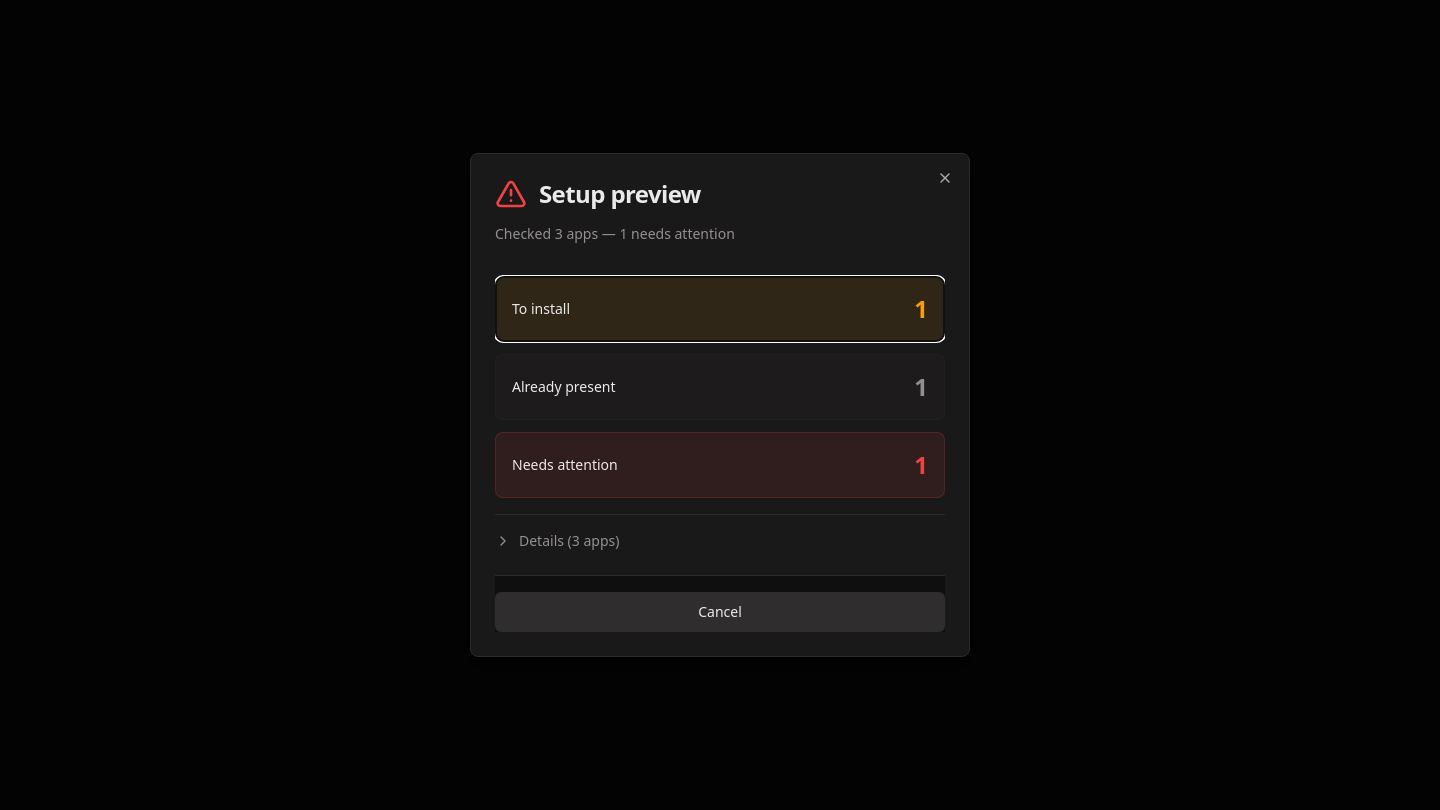
Test case: ApplyResultModal › Details collapse behavior › expands details when toggle button is clicked
The width and height of the screenshot is (1440, 810).
Click the button "Details (3 apps)": (569, 540) [495,531,945,551]
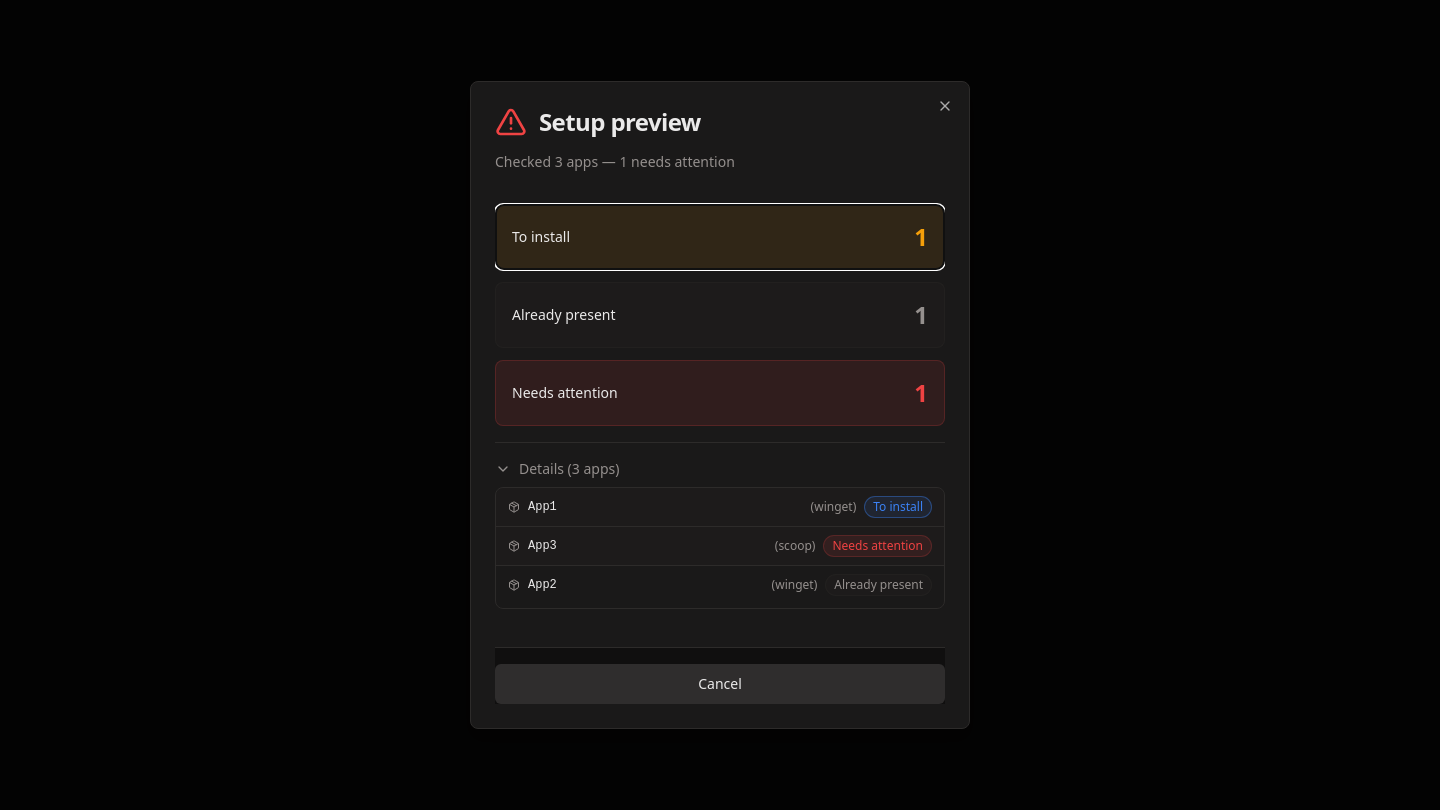
Expected: the button "Details (3 apps)" is expanded, [495,459,945,479]
Expected: the text "App1" is shown, [528,500,557,514]
Expected: the text "App2" is shown, [528,578,557,592]
